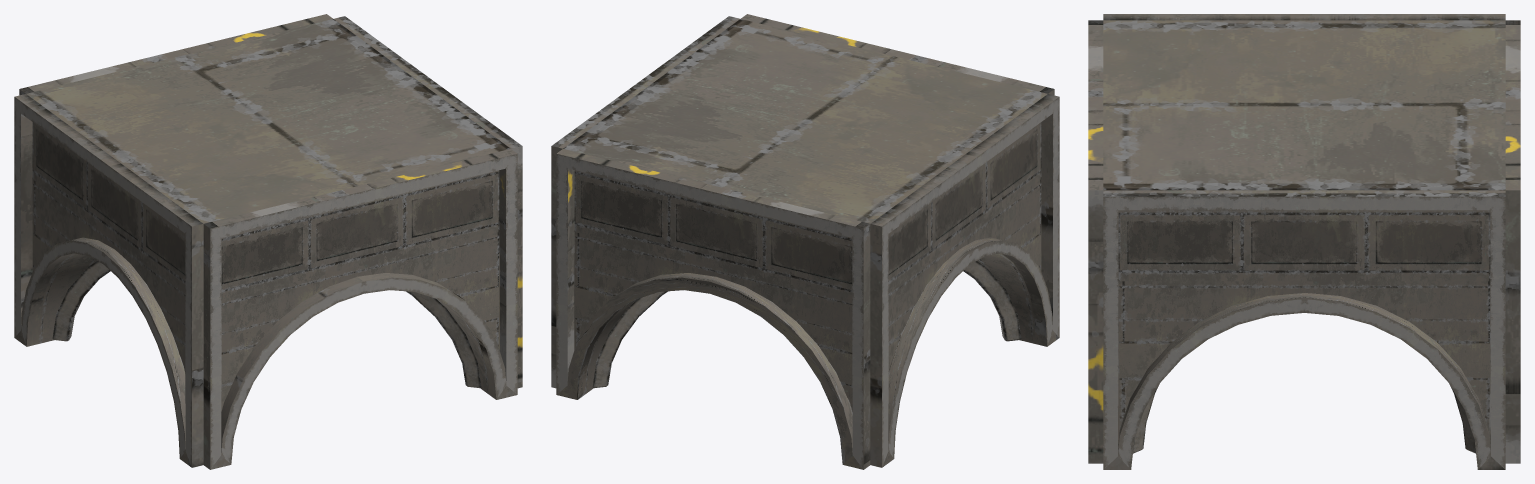
The model's file is SM_Church_Ceiling_TestVault.fbx.
The picture shows the model from 3 angles, left to right: view 1: azimuth 30°, elevation 25°; view 2: azimuth 150°, elevation 25°; view 3: azimuth 270°, elevation 25°; orthographic projection. The views are drawn at different scales.
Parts seen in each view (by area): view 1: SM_VaultedCeiling_Standard; view 2: SM_VaultedCeiling_Standard; view 3: SM_VaultedCeiling_Standard.
Boxes of the visible parts, x1=… form: SM_VaultedCeiling_Standard: x1=14, y1=14, x2=522, y2=469; SM_VaultedCeiling_Standard: x1=551, y1=14, x2=1059, y2=469; SM_VaultedCeiling_Standard: x1=1088, y1=14, x2=1520, y2=469.
Size of the model in its own units: 4.3 by 3 by 4.3.
